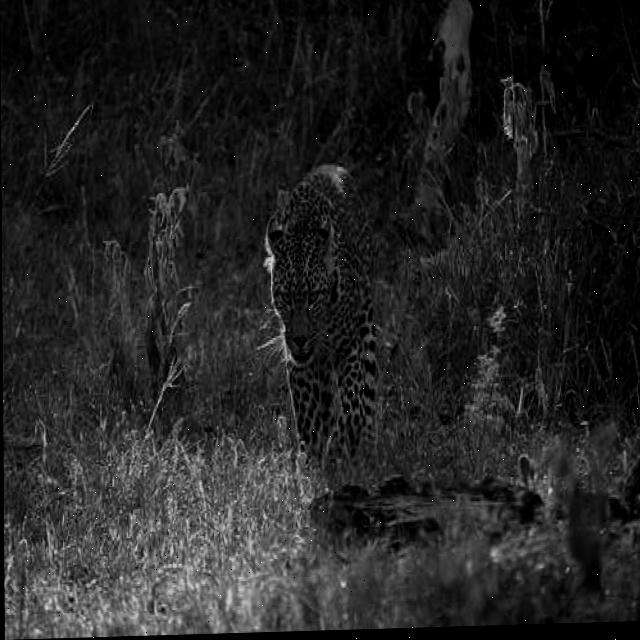Leopard: (239, 135, 493, 633)
